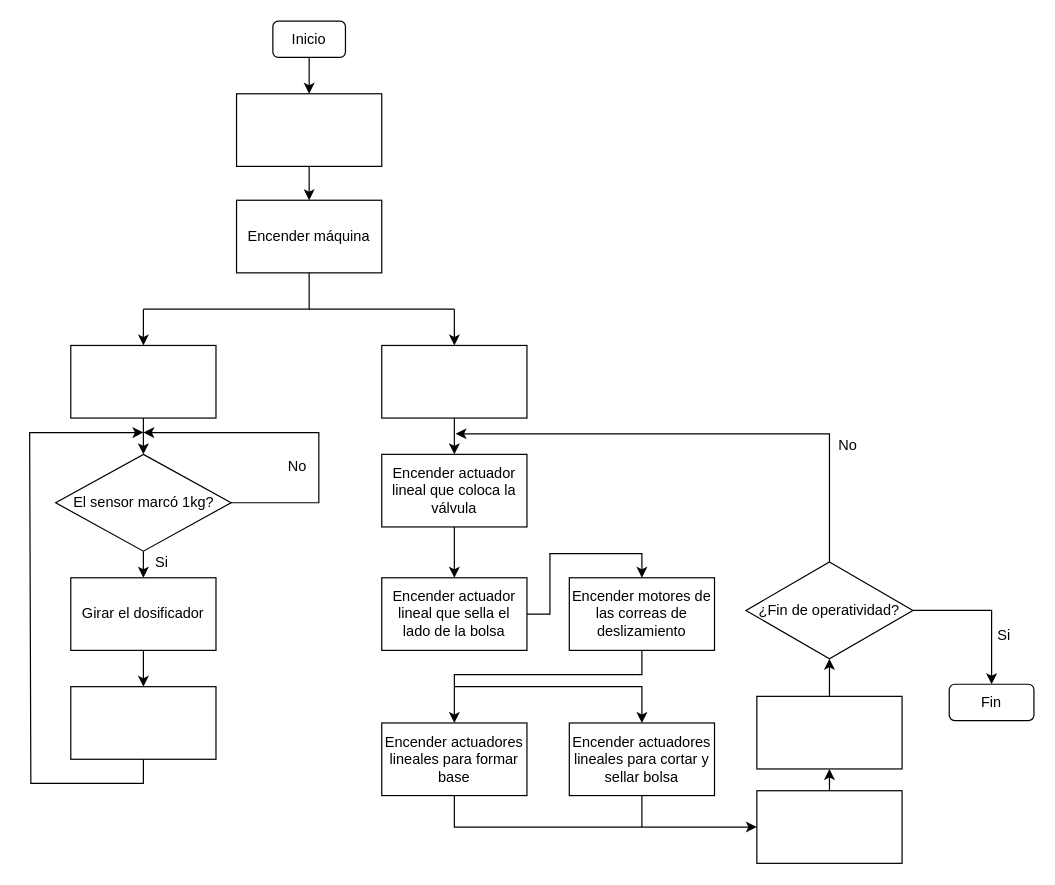
This 1055x885 diagram has some shape labels left out. Here are the shapes that lost their labels. From the top down, the box of each, then its label:
(235, 93, 382, 166): Asegurarse de que la tolva tiene café
(70, 344, 216, 418): Encender el motor del transportador helicoidal
(381, 344, 527, 418): Encender actuadores para ajustar las correas de deslizamiento
(70, 685, 216, 759): Depositar café en el tubo formador
(756, 695, 902, 769): Enviar información recopilada a la nube
(756, 790, 902, 863): Captar un nuevo paquete listo
